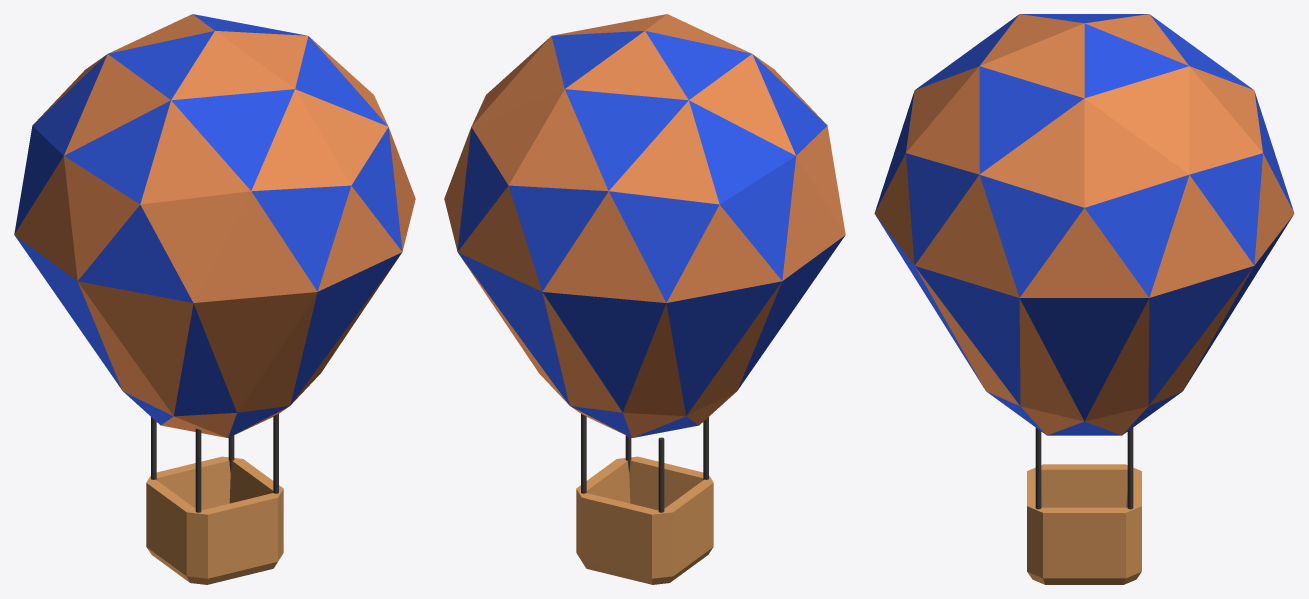
File: BALOON ENTER.fbx
3 views of the same model, side by side, from view 1: azimuth 30°, elevation 25°; view 2: azimuth 150°, elevation 25°; view 3: azimuth 270°, elevation 25° (orthographic). The views are drawn at different scales.
Visible parts, largest first — view 1: Icosphere, Cube, Cylinder.003; view 2: Icosphere, Cube, Cylinder.001; view 3: Icosphere, Cube, Cylinder, Cylinder.002.
Part boxes in pixels (x1,y1,x2,y2): Icosphere: (14, 14, 415, 437); Cube: (146, 456, 283, 584); Cylinder.003: (195, 429, 201, 512); Icosphere: (444, 14, 845, 437); Cube: (576, 456, 713, 584); Cylinder.001: (658, 437, 664, 512); Icosphere: (874, 14, 1294, 435); Cube: (1027, 464, 1141, 584); Cylinder: (1127, 428, 1133, 509); Cylinder.002: (1035, 428, 1041, 509).
Bounding box in the file's own units: 696 × 1045 × 732.
